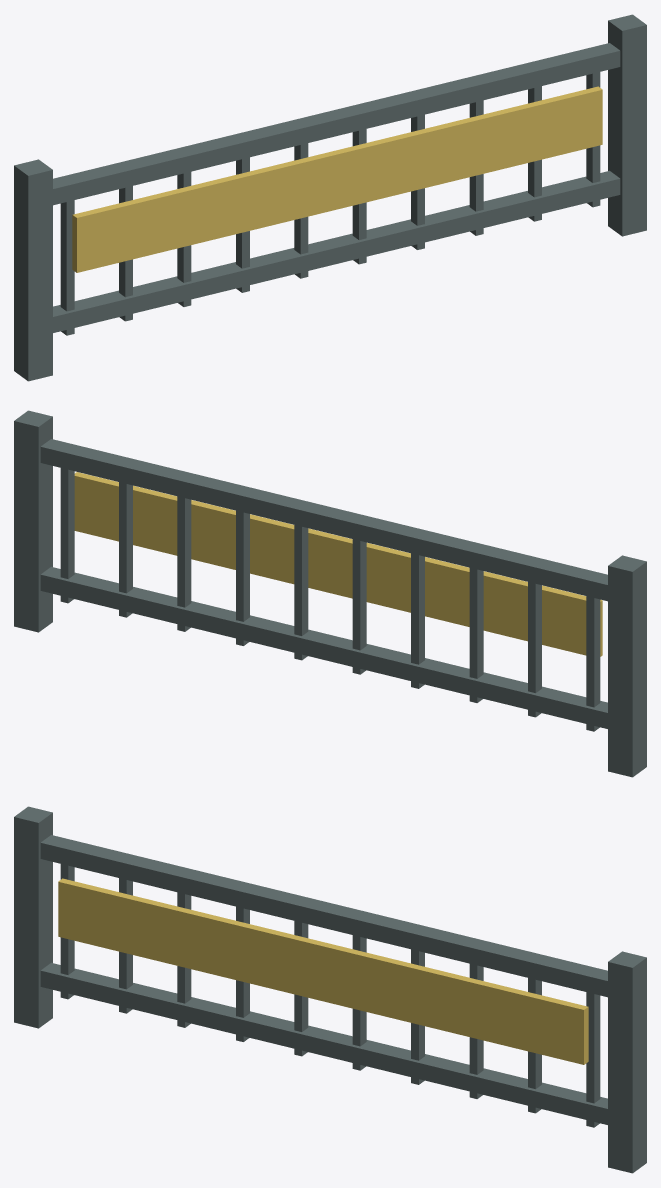
3 views of the same model, one above another, from view 1: azimuth 30°, elevation 25°; view 2: azimuth 150°, elevation 25°; view 3: azimuth 330°, elevation 25° (orthographic).
Size of the model in its own units: 4 by 1.27 by 0.185.
